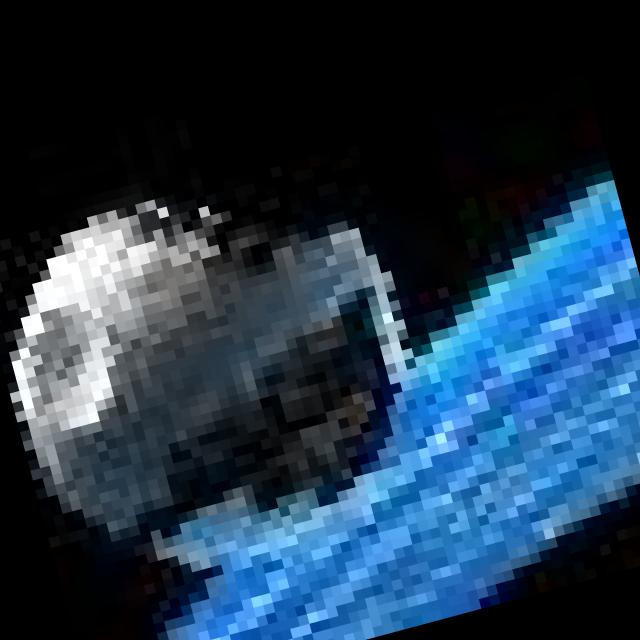Death Star: (0, 141, 450, 606)
